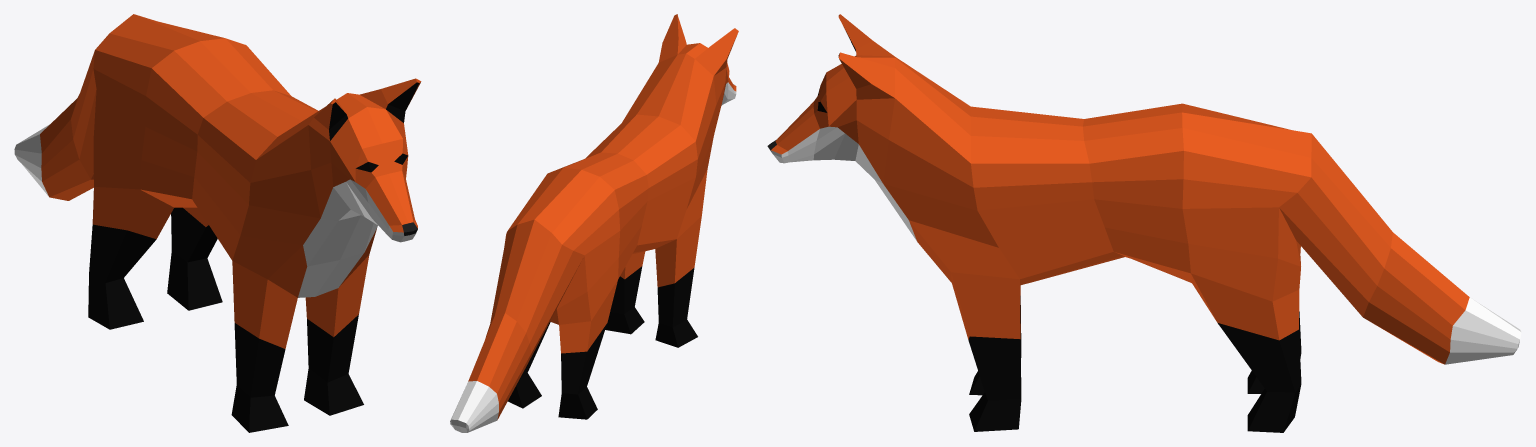
Rendered from Fox.fbx.
3 renders of one model, left to right at view 1: azimuth 30°, elevation 25°; view 2: azimuth 150°, elevation 25°; view 3: azimuth 270°, elevation 25°, orthographic. The views are drawn at different scales.
Visible parts, largest first — view 1: Fox; view 2: Fox; view 3: Fox.
Boxes of the visible parts, box(x1,y1,x2,y2) form: Fox: box(14, 14, 421, 432); Fox: box(450, 14, 738, 432); Fox: box(767, 14, 1521, 432).
Bounding box in the file's own units: 103 × 315 × 578.
